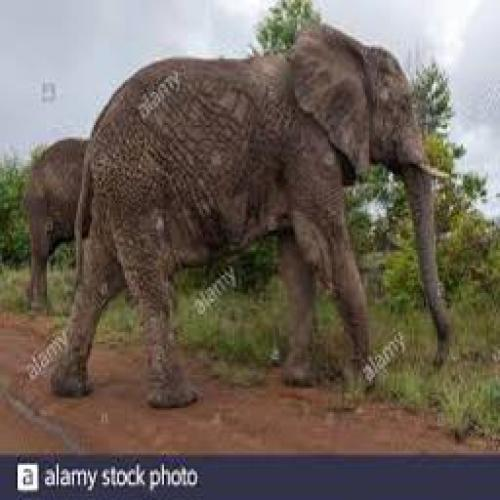african_elephant-endangered: (53, 27, 451, 401), (25, 135, 92, 307)
